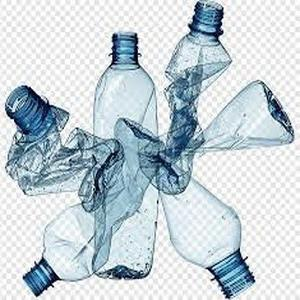Plastic: (91, 32, 160, 281)
